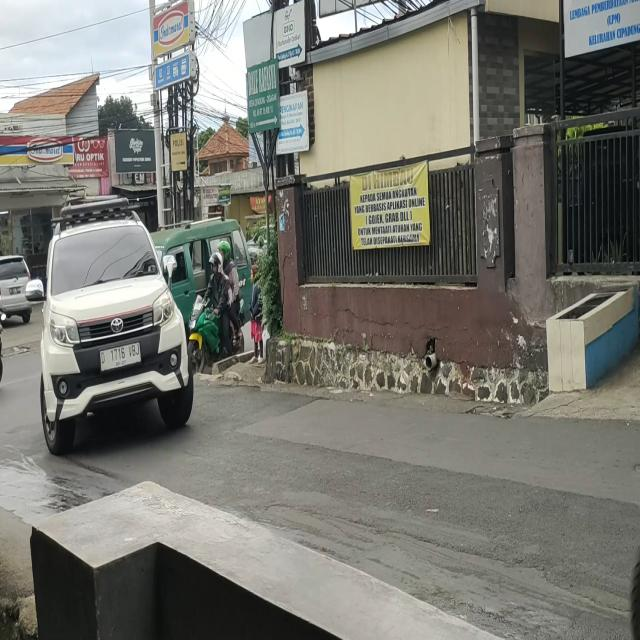helmet: (209, 253, 224, 280), (221, 240, 232, 267)
